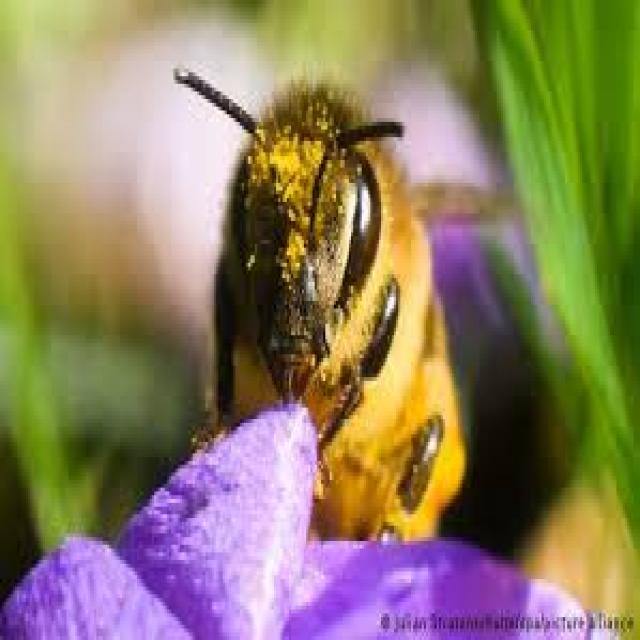Bees: (169, 64, 493, 554)
